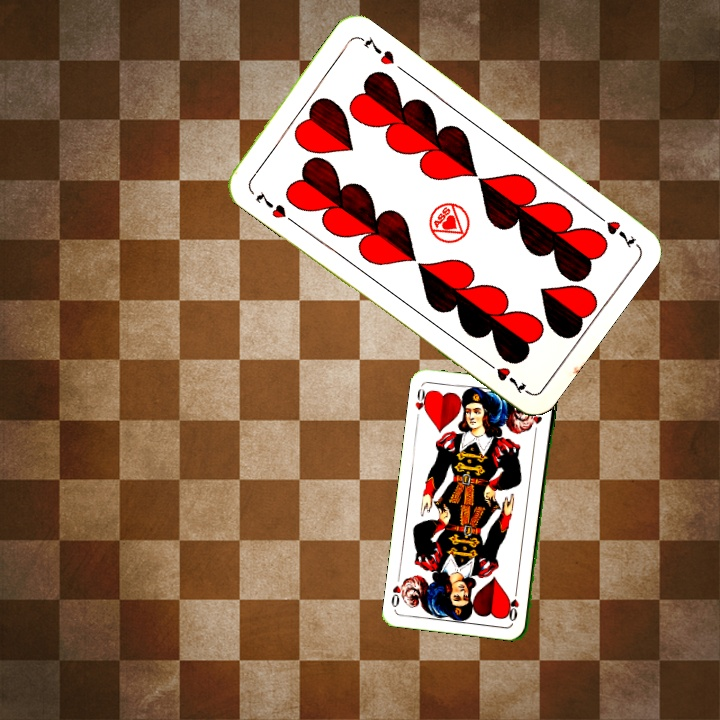H7: (589, 208, 639, 251), (251, 188, 289, 221)
HO: (411, 383, 432, 423), (506, 584, 522, 624)
